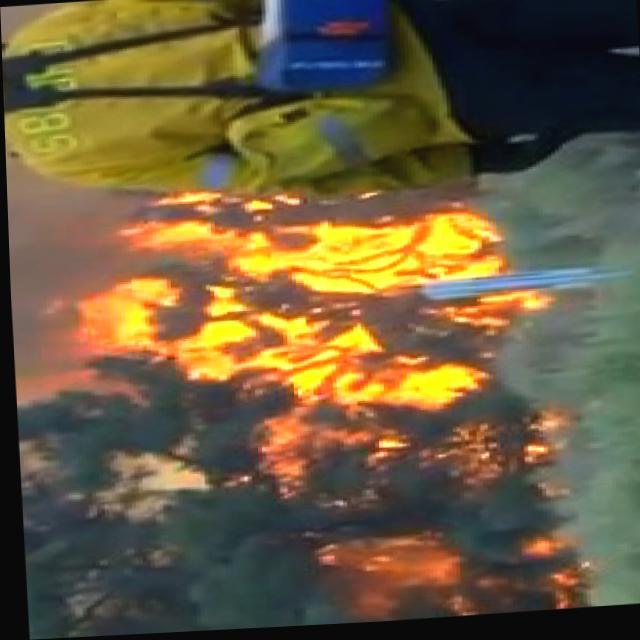fire: (62, 196, 515, 446)
